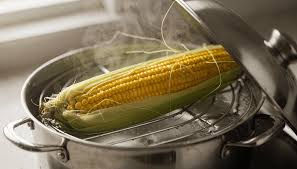tomate: (57, 57, 248, 133)
